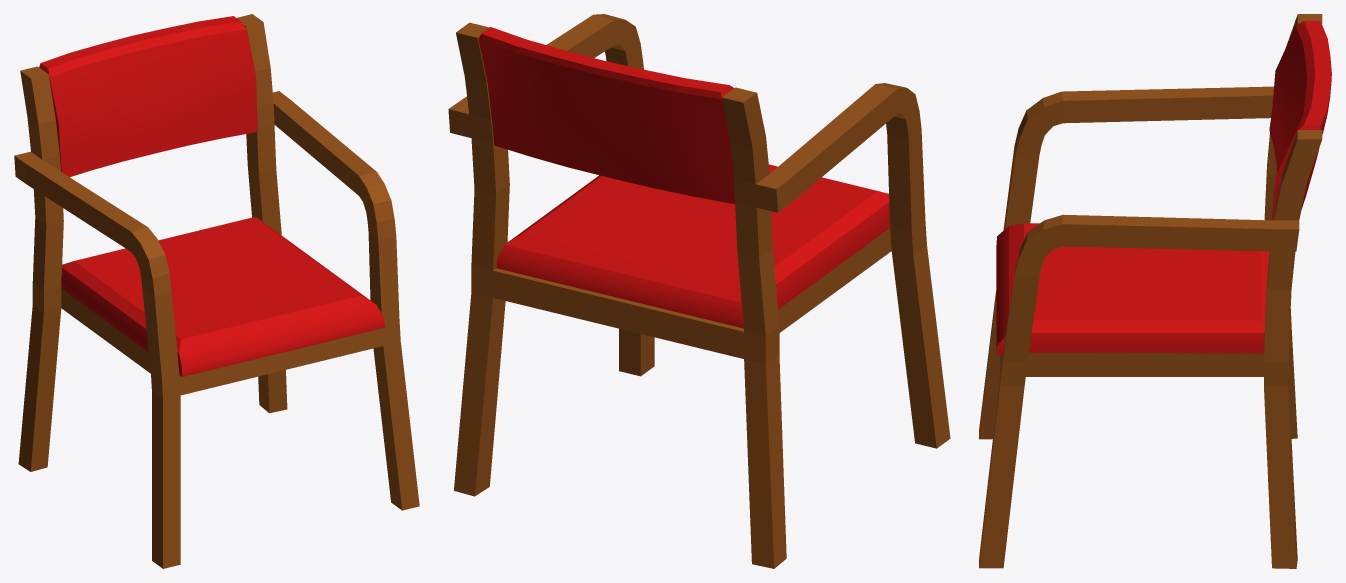
Rendered from isu.FBX.
3 renders of one model, left to right at view 1: azimuth 30°, elevation 25°; view 2: azimuth 150°, elevation 25°; view 3: azimuth 270°, elevation 25°, orthographic. The views are drawn at different scales.
Parts seen in each view (by area): view 1: Box022, Box021; view 2: Box021, Box022; view 3: Box021, Box022.
Boxes of the visible parts, box(x1,y1,x2,y2) form: Box022: box(39, 16, 384, 376); Box021: box(14, 14, 419, 568); Box021: box(448, 14, 950, 568); Box022: box(478, 27, 890, 328); Box021: box(979, 14, 1322, 568); Box022: box(996, 21, 1331, 355).
Size of the model in its own units: 28.9 by 40.15 by 30.13.
